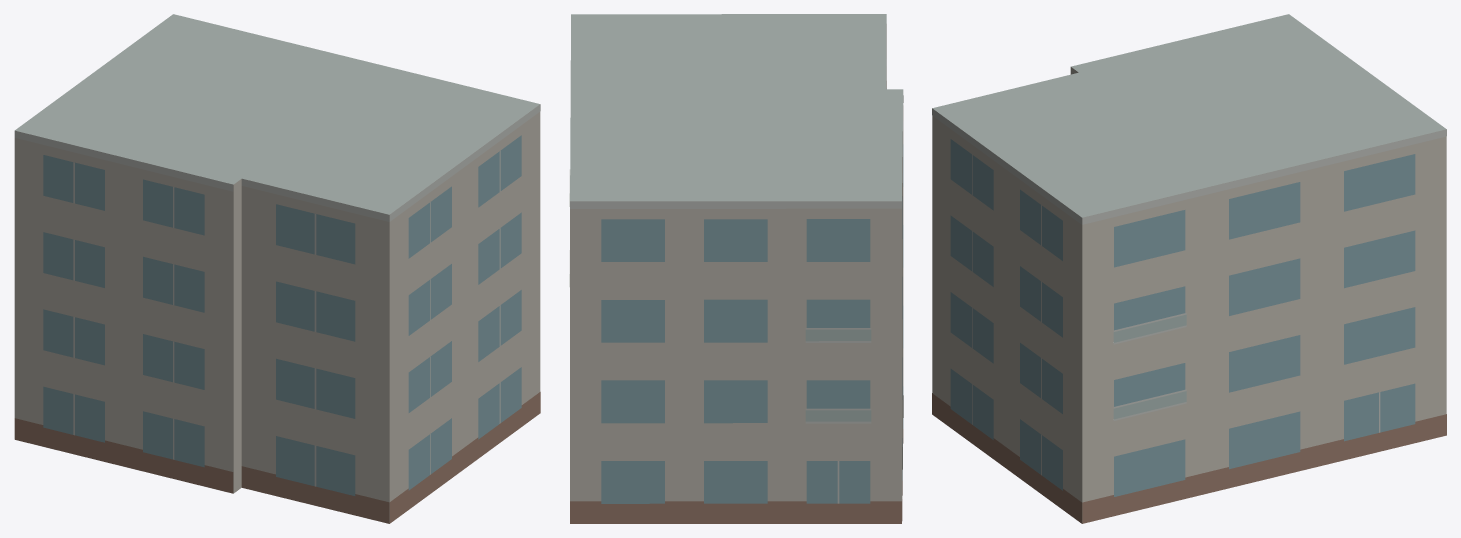
The model's file is survey-upis-33021189.glb.
3 renders of one model, left to right at view 1: azimuth 30°, elevation 25°; view 2: azimuth 150°, elevation 25°; view 3: azimuth 270°, elevation 25°, orthographic. The views are drawn at different scales.
Parts seen in each view (by area): view 1: survey-upis-33021189.tmp; view 2: survey-upis-33021189.tmp; view 3: survey-upis-33021189.tmp.
Part boxes in pixels (x1=…): survey-upis-33021189.tmp: x1=14, y1=14, x2=540, y2=523; survey-upis-33021189.tmp: x1=569, y1=14, x2=903, y2=523; survey-upis-33021189.tmp: x1=932, y1=14, x2=1446, y2=523.
Bounding box in the file's own units: 14.85 × 10.4 × 15.86.
